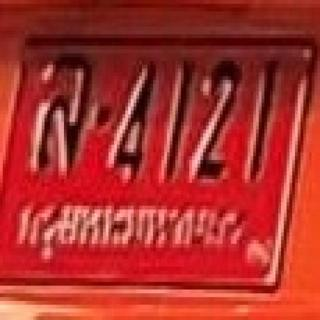A36: (24, 49, 94, 175)
N01: (243, 54, 282, 184), (158, 52, 190, 181)
N02: (193, 53, 239, 180)
N04: (110, 52, 157, 184)
P04: (9, 194, 250, 271)
